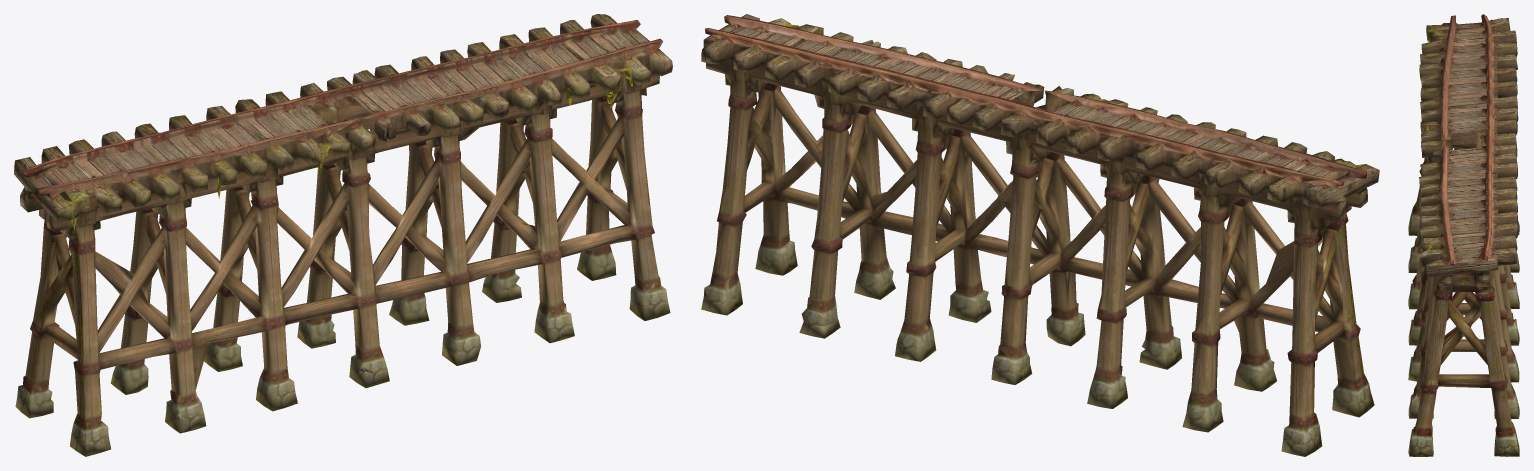
The model's file is trestle.glb.
The picture shows the model from 3 angles, left to right: view 1: azimuth 30°, elevation 25°; view 2: azimuth 150°, elevation 25°; view 3: azimuth 270°, elevation 25°; orthographic projection. The views are drawn at different scales.
Parts seen in each view (by area): view 1: wooden bridge 3d model; view 2: wooden bridge 3d model; view 3: wooden bridge 3d model.
Boxes of the visible parts, x1,y1,x2,y2 form: wooden bridge 3d model: (14,14,672,456); wooden bridge 3d model: (701,14,1379,456); wooden bridge 3d model: (1408,14,1519,456).
Size of the model in its own units: 16.15 by 6.4 by 3.1.
1 material, 1 textured.
